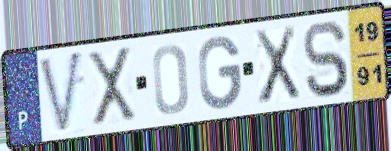0: (150, 42, 191, 117)
G: (196, 33, 243, 113)
S: (301, 18, 351, 100)
V: (36, 47, 85, 137)
X: (85, 45, 139, 130), (252, 23, 302, 108)
